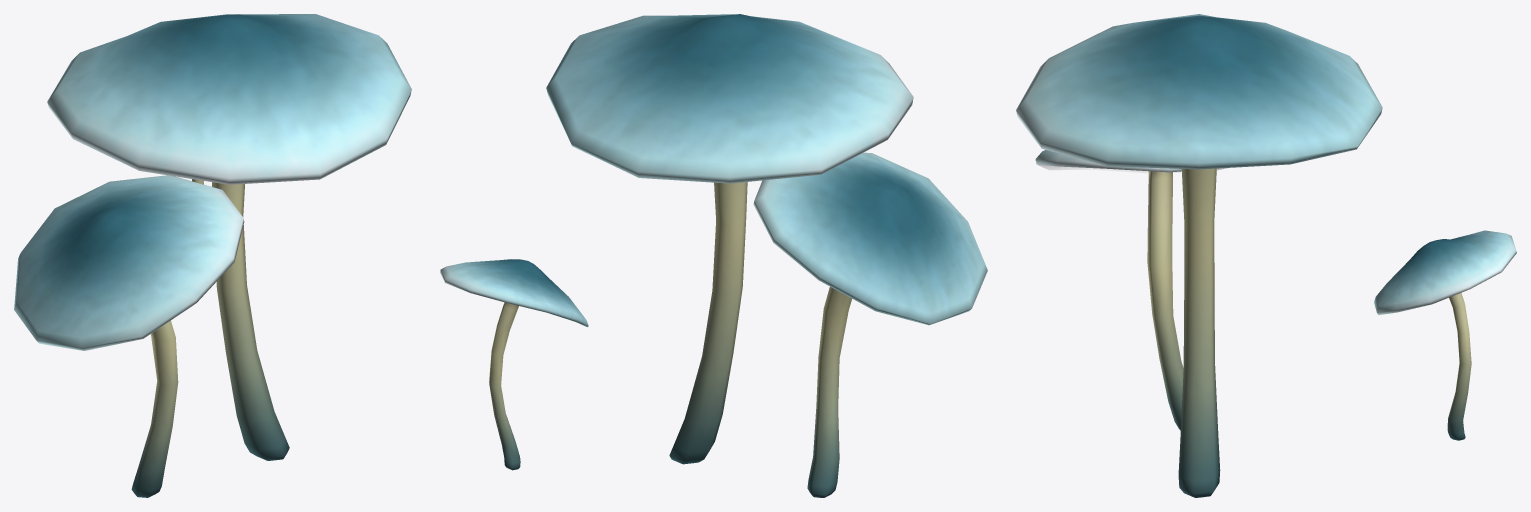
The model's file is Cartoon Seaweed_13-1-25.fbx.
The picture shows the model from 3 angles, left to right: view 1: azimuth 30°, elevation 25°; view 2: azimuth 150°, elevation 25°; view 3: azimuth 270°, elevation 25°; orthographic projection.
Visible parts, largest first — view 1: Cartoon Seaweed_13.1.25; view 2: Cartoon Seaweed_13.1.25; view 3: Cartoon Seaweed_13.1.25.
Boxes of the visible parts, box(x1,y1,x2,y2) form: Cartoon Seaweed_13.1.25: box(14, 14, 411, 497); Cartoon Seaweed_13.1.25: box(440, 14, 987, 497); Cartoon Seaweed_13.1.25: box(1016, 14, 1516, 497).
Bounding box in the file's own units: 9.25 × 10.7 × 10.64.
Materials: 1 (1 with a texture image).
